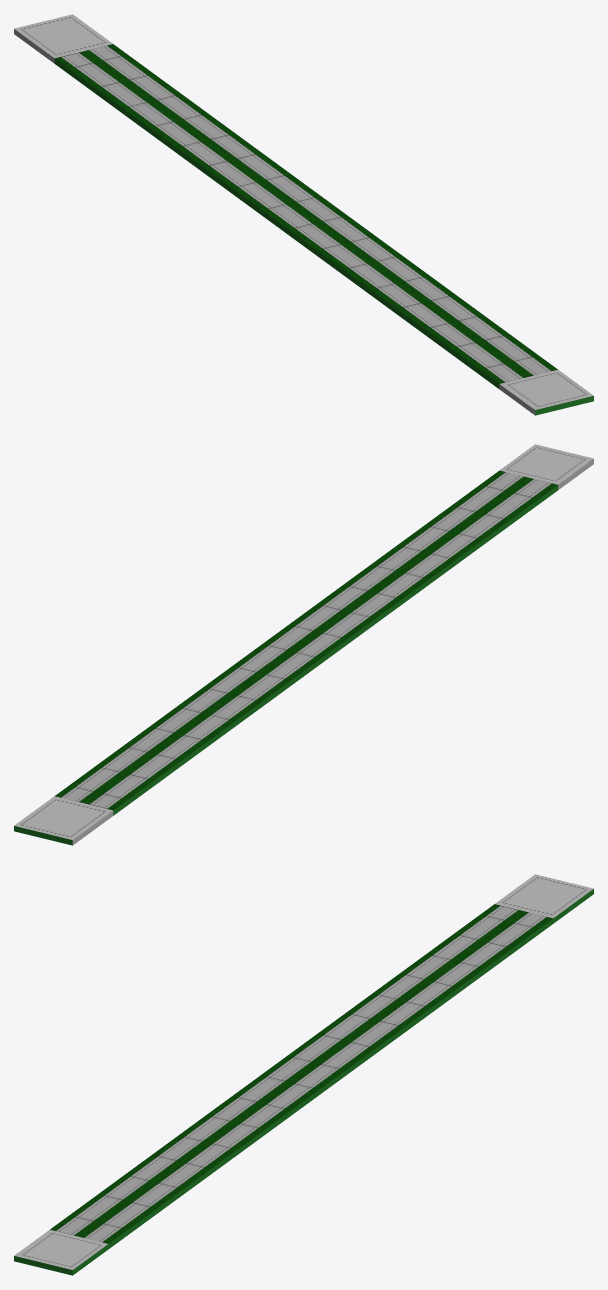
The model's file is Single Sidewalk.fbx.
3 views of the same model, one above another, from view 1: azimuth 30°, elevation 25°; view 2: azimuth 150°, elevation 25°; view 3: azimuth 330°, elevation 25° (orthographic).
Visible parts, largest first — view 1: Side_Walk6; view 2: Side_Walk6; view 3: Side_Walk6.
Part boxes in pixels (x1=…): Side_Walk6: x1=14, y1=14, x2=593, y2=415; Side_Walk6: x1=14, y1=444, x2=593, y2=845; Side_Walk6: x1=14, y1=874, x2=593, y2=1275.
Bounding box in the file's own units: 643 × 57.18 × 9884.
Materials: 3 (2 with a texture image).
